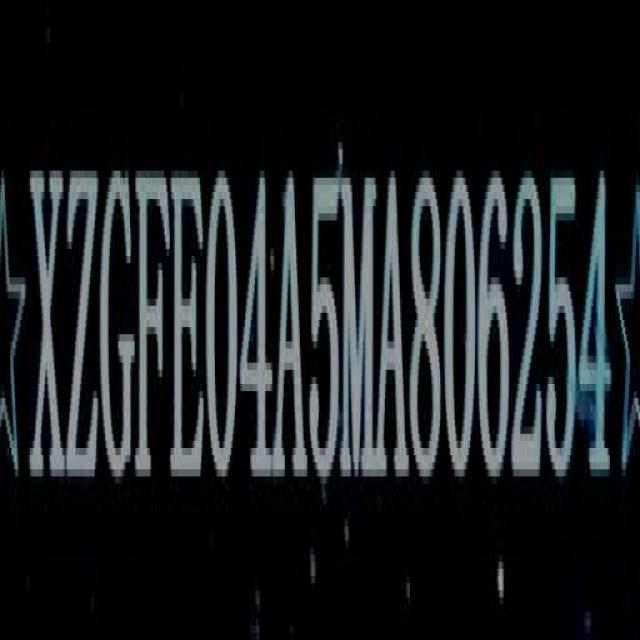0: (204, 174, 240, 487), (444, 174, 476, 492)
2: (512, 168, 544, 498)
4: (239, 163, 274, 480), (578, 171, 611, 482)
5: (544, 166, 580, 490), (309, 161, 342, 490)
6: (476, 179, 512, 490)
8: (408, 174, 442, 479)
A: (274, 174, 309, 490), (374, 182, 410, 484)
E: (168, 161, 206, 490)
F: (133, 158, 169, 498)
G: (96, 148, 134, 492)
M: (339, 160, 376, 484)
X: (28, 163, 68, 490)
Z: (66, 153, 102, 490)
